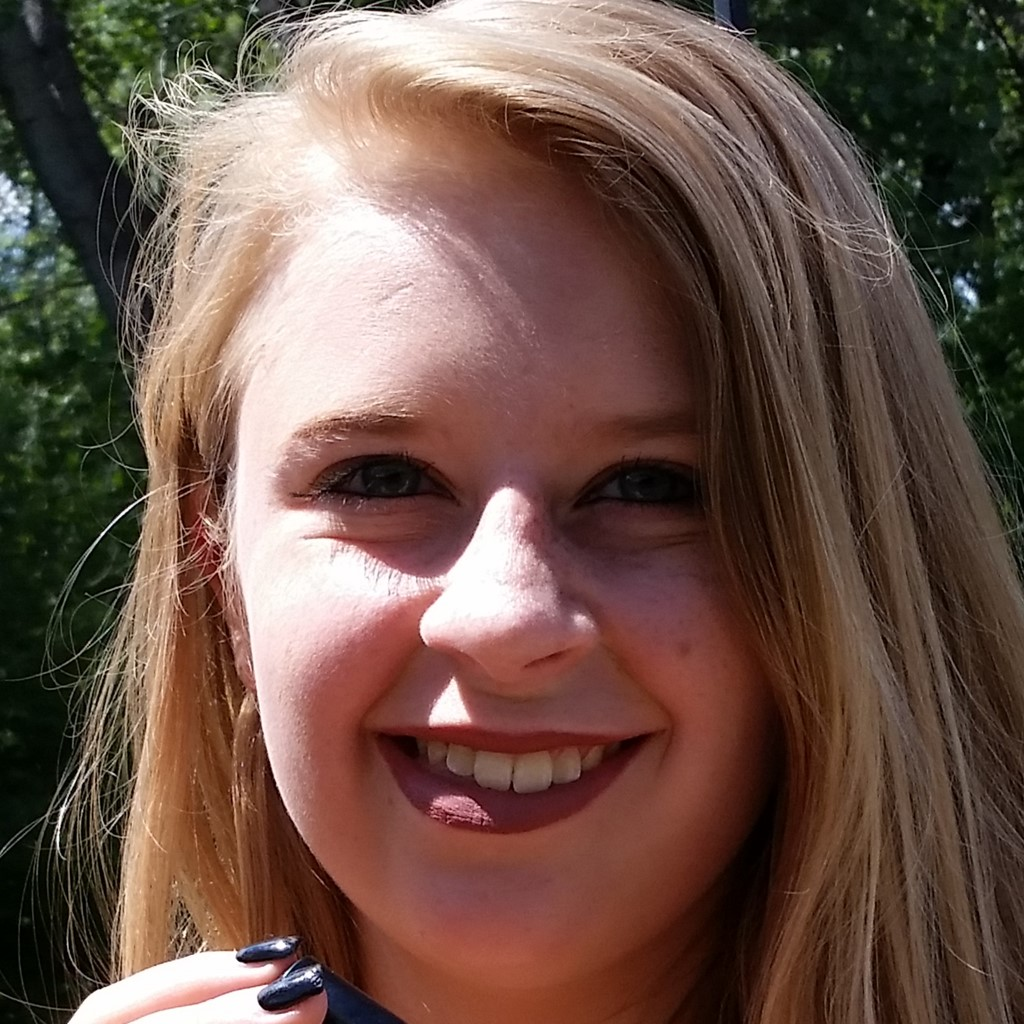sin_mascara: (230, 128, 790, 970)
